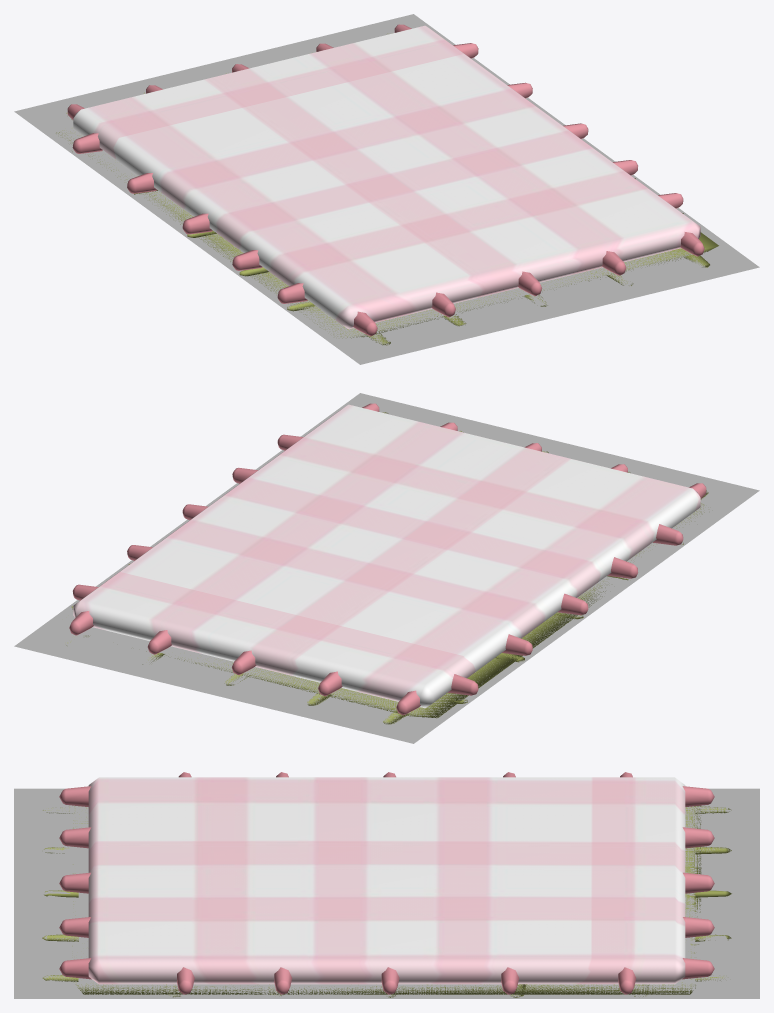
The model's file is PicnicMat.fbx.
The picture shows the model from 3 angles, top to bottom: view 1: azimuth 30°, elevation 25°; view 2: azimuth 150°, elevation 25°; view 3: azimuth 270°, elevation 25°; orthographic projection. The views are drawn at different scales.
Parts seen in each view (by area): view 1: PicnicMat1, PicnicMatGrid.001, PicnicMatShadow; view 2: PicnicMat1, PicnicMatGrid.001, PicnicMatShadow; view 3: PicnicMat1, PicnicMatGrid.001, PicnicMatShadow, PicnicMatGrid.
Boxes of the visible parts, x1,y1,x2,y2 form: PicnicMat1: (67, 24, 704, 336); PicnicMatGrid.001: (14, 14, 759, 364); PicnicMatShadow: (56, 33, 718, 345); PicnicMat1: (69, 403, 706, 715); PicnicMatGrid.001: (14, 393, 759, 743); PicnicMatShadow: (66, 412, 708, 724); PicnicMat1: (59, 772, 714, 994); PicnicMatGrid.001: (14, 788, 759, 998); PicnicMatShadow: (42, 805, 731, 997); PicnicMatGrid: (262, 984, 511, 998).
Bounding box in the file's own units: 203 × 11.58 × 300.
